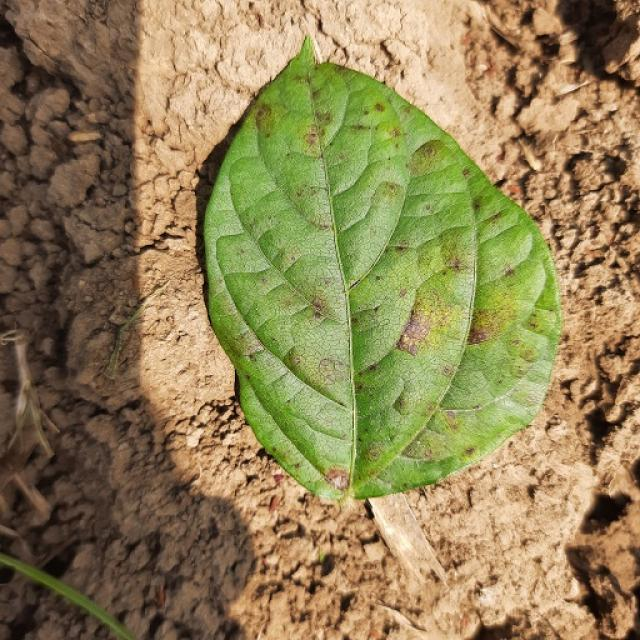Anthracnose: (462, 222, 548, 347), (391, 298, 443, 358), (317, 358, 344, 384), (253, 103, 274, 133), (376, 119, 401, 143), (325, 469, 349, 491), (466, 326, 492, 345), (309, 298, 328, 316), (443, 411, 460, 431), (241, 345, 264, 359), (315, 110, 332, 126), (347, 276, 363, 292), (305, 131, 319, 147), (367, 444, 382, 458), (448, 259, 462, 269), (503, 267, 515, 278), (374, 102, 385, 112), (464, 446, 475, 456), (317, 222, 329, 231), (461, 168, 471, 178), (399, 288, 408, 297), (292, 356, 301, 365), (351, 317, 358, 325)
Blackgram: (205, 39, 560, 499)
